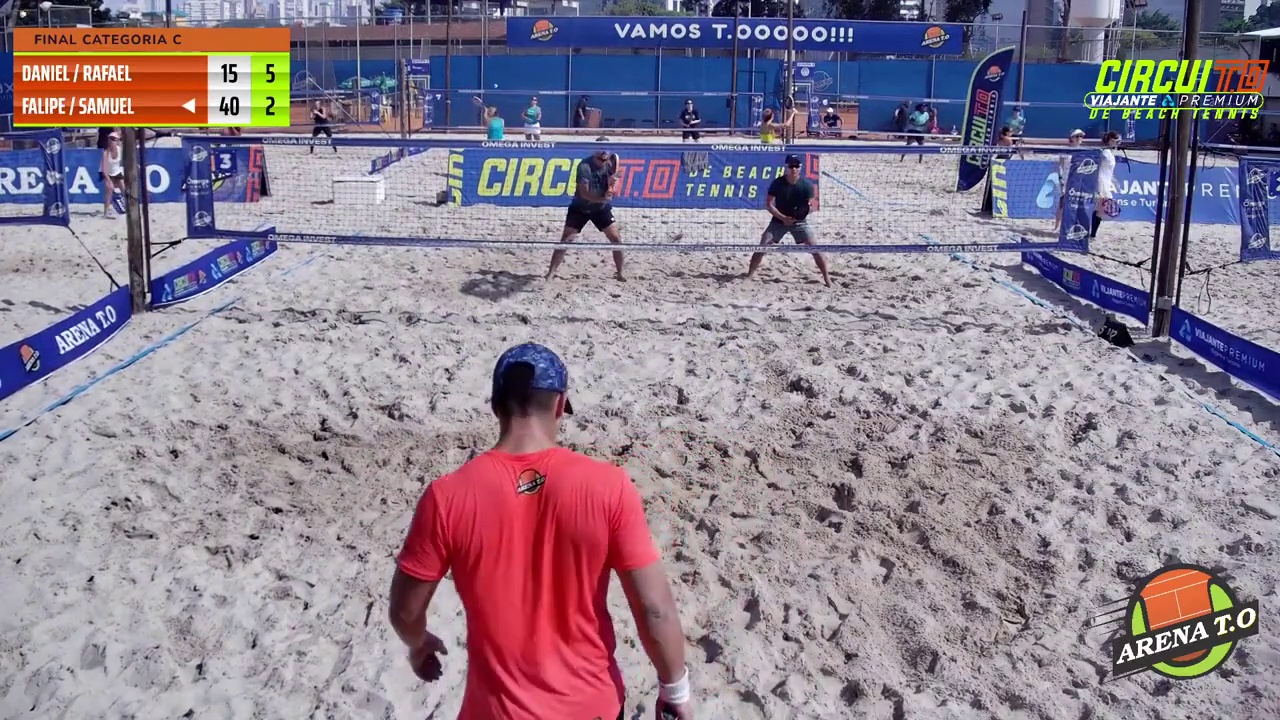court_line: (643, 0, 823, 497), (533, 0, 688, 507)
